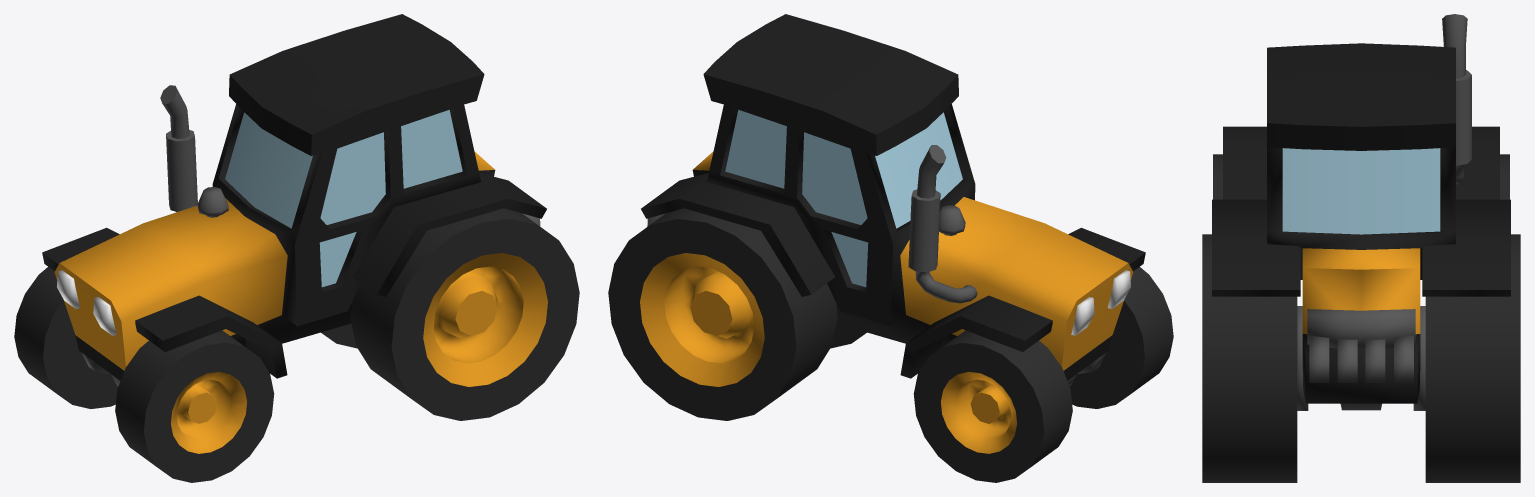
File: tractor_-_game_asset.glb
3 renders of one model, left to right at view 1: azimuth 30°, elevation 25°; view 2: azimuth 150°, elevation 25°; view 3: azimuth 270°, elevation 25°, orthographic. The views are drawn at different scales.
Parts seen in each view (by area): view 1: Plane; view 2: Plane; view 3: Plane.
Boxes of the visible parts, x1,y1,x2,y2 form: Plane: (14, 14, 579, 482); Plane: (608, 14, 1173, 482); Plane: (1202, 14, 1520, 482).
Bounding box in the file's own units: 724 × 500 × 396.
